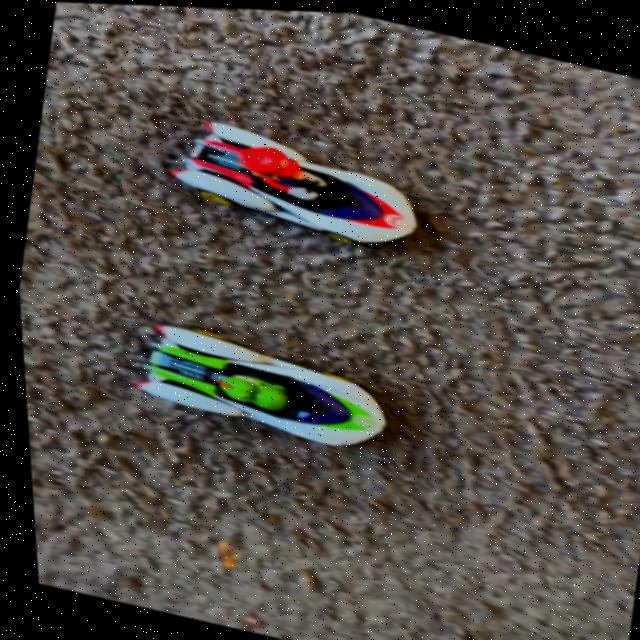mario: (149, 103, 437, 265)
yoshi: (99, 310, 413, 469)
